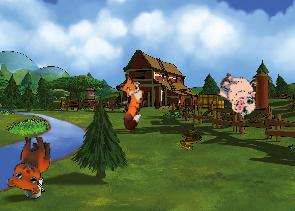bear: (6, 133, 51, 194)
fox: (103, 71, 154, 132)
pig: (210, 68, 264, 120)
